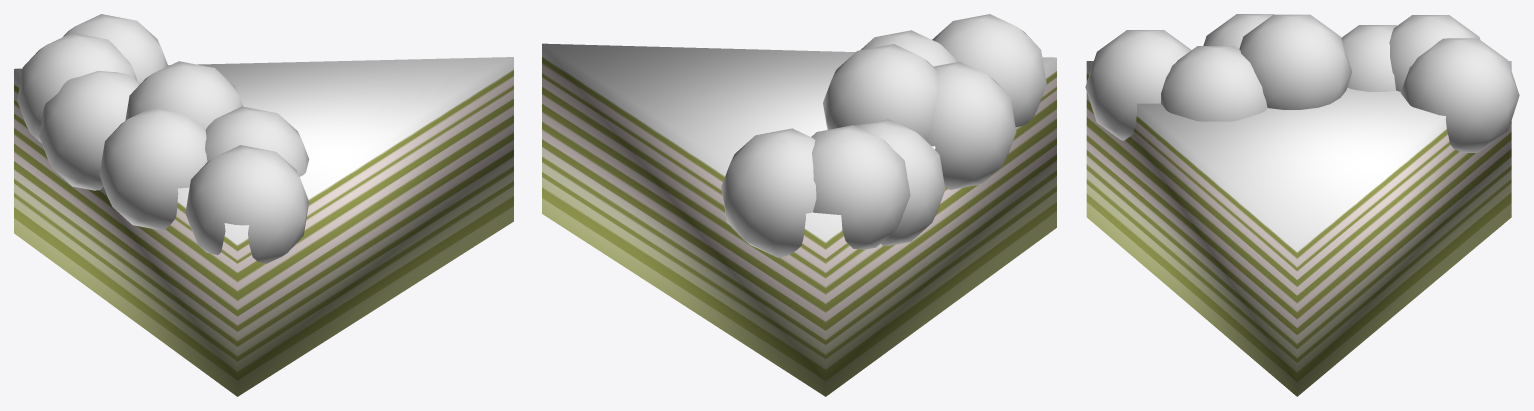
File: Cake.glb
3 views of the same model, side by side, from view 1: azimuth 30°, elevation 25°; view 2: azimuth 150°, elevation 25°; view 3: azimuth 270°, elevation 25° (orthographic). The views are drawn at different scales.
Visible parts, largest first — view 1: Cube, Icosphere, Icosphere.002, Icosphere.005, Icosphere.006, Icosphere.003, Icosphere.001, Icosphere.004; view 2: Cube, Icosphere.004, Icosphere.006, Icosphere.002, Icosphere.003, Icosphere, Icosphere.005, Icosphere.001; view 3: Cube, Icosphere.004, Icosphere.003, Icosphere, Icosphere.001, Icosphere.005, Icosphere.006, Icosphere.002.
Part boxes in pixels (x1,y1,x2,y2): Cube: [14, 57, 513, 396]; Icosphere: [185, 145, 309, 263]; Icosphere.002: [99, 109, 207, 230]; Icosphere.005: [39, 71, 139, 190]; Icosphere.006: [17, 33, 136, 143]; Icosphere.003: [125, 61, 243, 129]; Icosphere.001: [205, 106, 309, 176]; Icosphere.004: [63, 14, 167, 83]; Cube: [542, 43, 1056, 396]; Icosphere.004: [721, 128, 816, 257]; Icosphere.006: [811, 125, 910, 249]; Icosphere.002: [926, 61, 1016, 189]; Icosphere.003: [823, 44, 938, 139]; Icosphere: [932, 14, 1046, 126]; Icosphere.005: [855, 119, 945, 245]; Icosphere.001: [860, 30, 956, 66]; Cube: [1086, 61, 1511, 396]; Icosphere.004: [1400, 38, 1519, 152]; Icosphere.003: [1239, 14, 1351, 109]; Icosphere: [1085, 30, 1191, 140]; Icosphere.001: [1161, 46, 1267, 121]; Icosphere.005: [1341, 25, 1396, 91]; Icosphere.006: [1389, 15, 1480, 91]; Icosphere.002: [1203, 14, 1274, 48].
Size of the model in its own units: 1.39 by 0.7427 by 1.29.
1 material, 1 textured.
